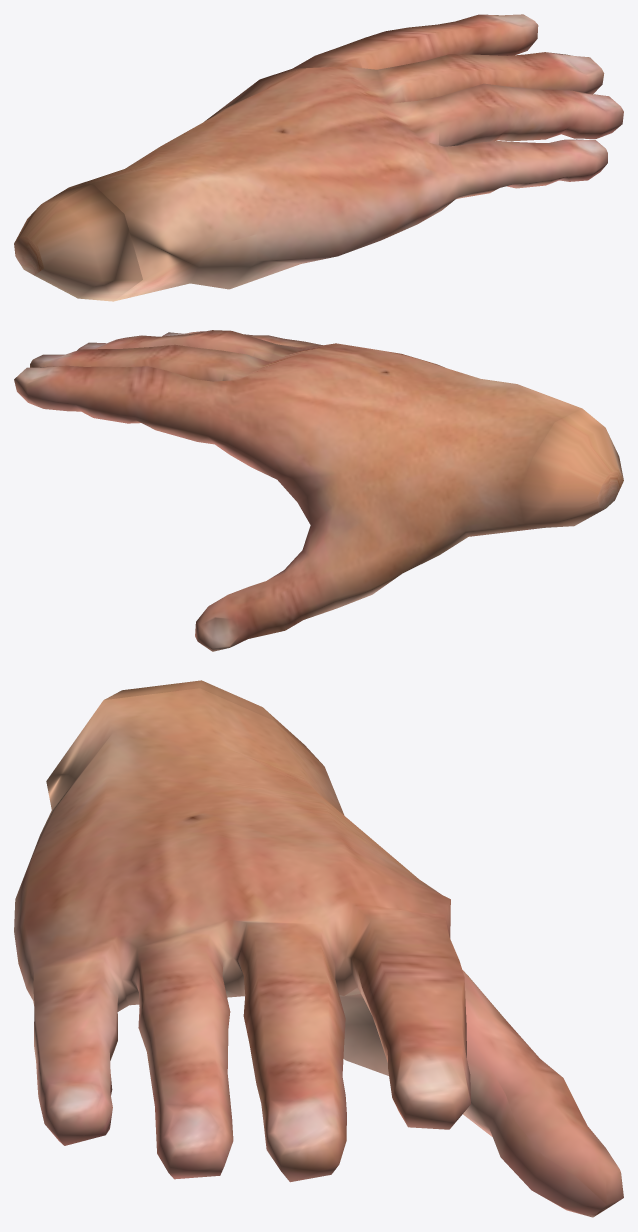
The model's file is RightHand1.dae.
3 views of the same model, one above another, from view 1: azimuth 30°, elevation 25°; view 2: azimuth 150°, elevation 25°; view 3: azimuth 270°, elevation 25° (orthographic). The views are drawn at different scales.
Visible parts, largest first — view 1: RightHand1; view 2: RightHand1; view 3: RightHand1.
Part boxes in pixels (x1,y1,x2,y2): RightHand1: (14, 14, 623, 301); RightHand1: (14, 330, 623, 651); RightHand1: (14, 680, 623, 1217).
Bounding box in the file's own units: 0.2148 × 0.122 × 0.0806.
Materials: 1 (1 with a texture image).
